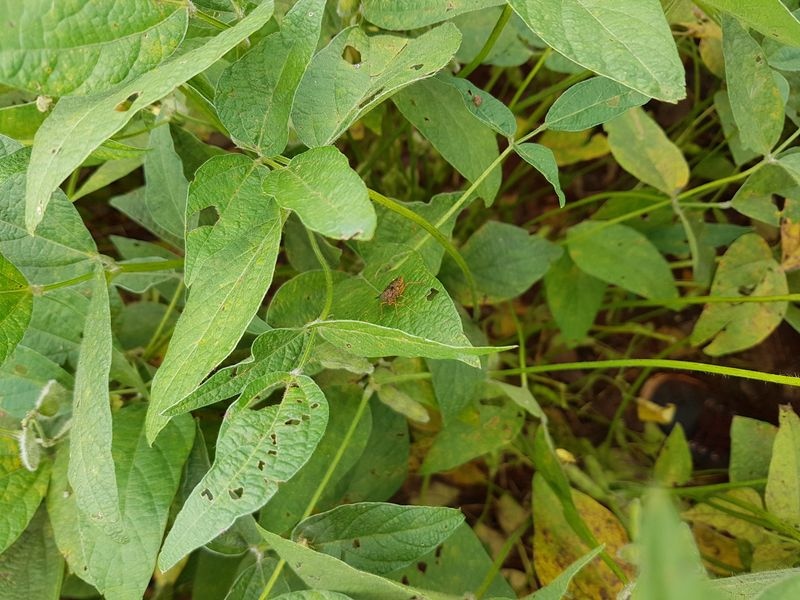Euschistus_heros_adulto: (372, 271, 423, 323)
Euschistus_heros_ninfa: (32, 91, 57, 116)
